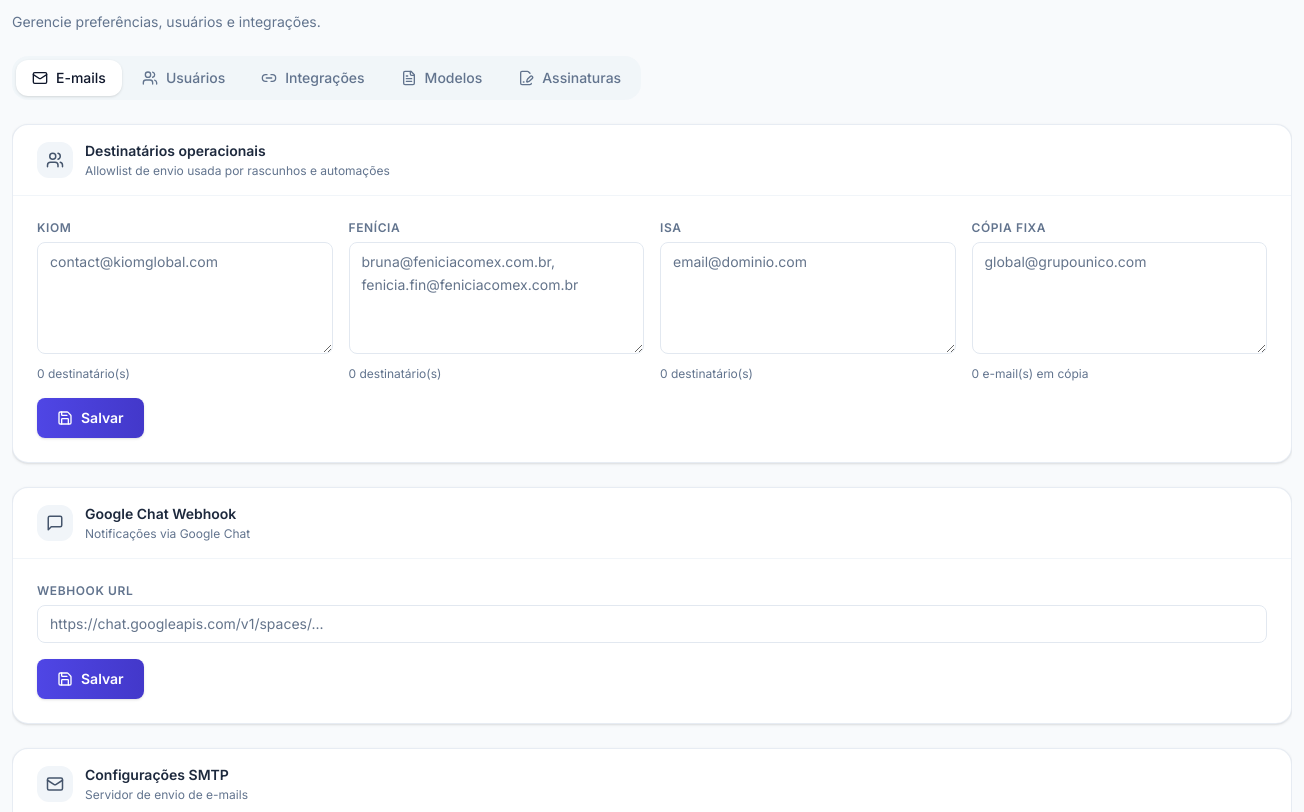
Test: SettingsPage — aba Usuários › desabilita o switch e o botão de desativar na própria linha
The image size is (1304, 812).
Click the button "Usuários" at {"x": 184, "y": 78}, box [126,60,241,96]
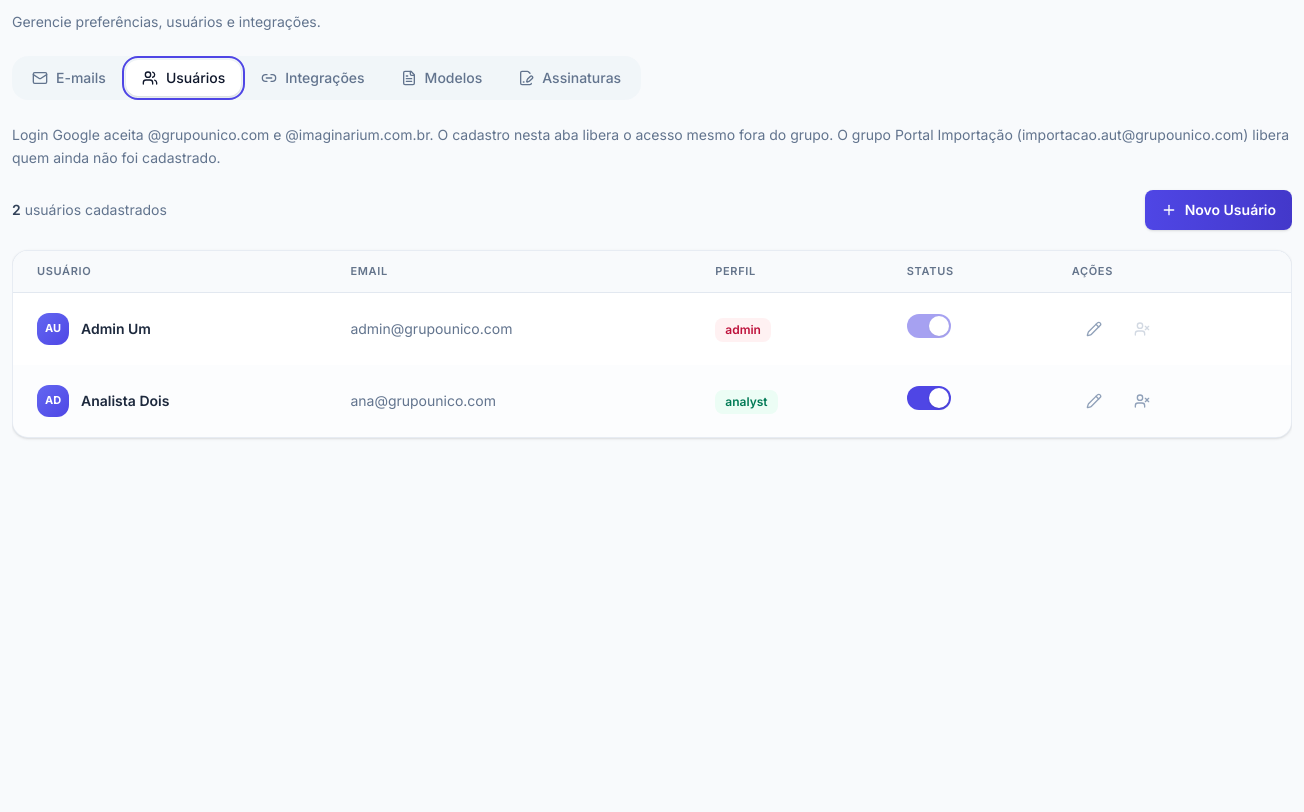
expect the switch named "Desativar Admin Um" is disabled: met, box [907,314,951,338]
expect the button named "Desativar usuário Admin Um" is disabled: met, box [1120,307,1164,351]
